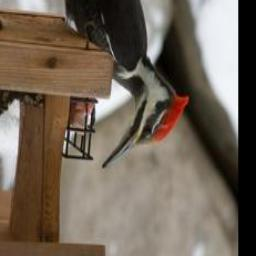Woodpecker: (0, 0, 203, 169)
